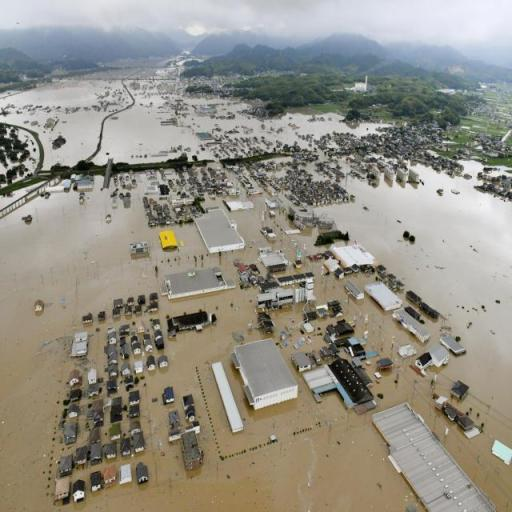flood: (0, 177, 417, 512), (314, 162, 512, 512), (92, 78, 348, 164), (160, 287, 305, 426), (0, 78, 131, 169), (268, 210, 327, 261), (0, 181, 44, 209), (334, 122, 390, 136), (305, 259, 322, 273), (205, 197, 224, 208), (340, 158, 351, 174)
house: (374, 402, 500, 512), (234, 335, 296, 412), (189, 205, 245, 255), (160, 268, 232, 306), (326, 357, 376, 408), (210, 362, 245, 434), (259, 272, 317, 310), (322, 240, 380, 267), (168, 312, 217, 338), (393, 308, 430, 342), (364, 280, 403, 312), (182, 432, 203, 472), (259, 247, 290, 273), (489, 436, 512, 467), (291, 206, 315, 228), (442, 334, 466, 356), (53, 476, 72, 502), (91, 467, 111, 491), (72, 332, 90, 358), (168, 410, 182, 442), (158, 230, 178, 252), (431, 344, 450, 367), (451, 380, 471, 401), (293, 350, 312, 371), (117, 461, 135, 482), (420, 301, 441, 319), (134, 464, 152, 484), (346, 280, 364, 300), (72, 479, 86, 504), (89, 442, 104, 464), (414, 352, 432, 370), (226, 199, 253, 211), (457, 414, 476, 431), (397, 343, 417, 359), (74, 446, 89, 467), (63, 422, 77, 444), (59, 454, 74, 474), (131, 432, 146, 452), (260, 226, 278, 242), (104, 441, 118, 461), (130, 241, 149, 255), (336, 322, 355, 336), (108, 422, 122, 440), (119, 438, 131, 458), (443, 406, 460, 420), (434, 395, 448, 412), (406, 290, 422, 304), (377, 358, 394, 371), (68, 370, 82, 385), (182, 394, 196, 408), (88, 428, 102, 442), (77, 179, 93, 191), (164, 386, 174, 404), (112, 404, 122, 422), (146, 356, 157, 372), (265, 196, 278, 209), (129, 390, 141, 404), (67, 404, 79, 418), (88, 384, 100, 398), (120, 344, 131, 359), (385, 166, 395, 182), (157, 355, 169, 368), (129, 403, 140, 417), (397, 168, 408, 182), (121, 362, 131, 377), (136, 319, 146, 334), (129, 420, 141, 432), (82, 312, 94, 324), (186, 408, 196, 422), (134, 360, 144, 374), (107, 344, 118, 356), (144, 339, 154, 352), (88, 368, 96, 384), (410, 169, 419, 183), (70, 389, 80, 401), (147, 302, 159, 312), (171, 198, 183, 208), (34, 300, 44, 312), (156, 337, 165, 350), (133, 342, 141, 356), (96, 311, 107, 321), (316, 308, 327, 318), (109, 364, 118, 376), (124, 376, 134, 386), (152, 318, 160, 330), (109, 332, 117, 344), (112, 395, 122, 404), (112, 308, 121, 318), (114, 298, 123, 308), (335, 268, 344, 278), (154, 330, 162, 341), (352, 263, 360, 273), (130, 335, 138, 344), (126, 306, 132, 316), (345, 267, 352, 275)
